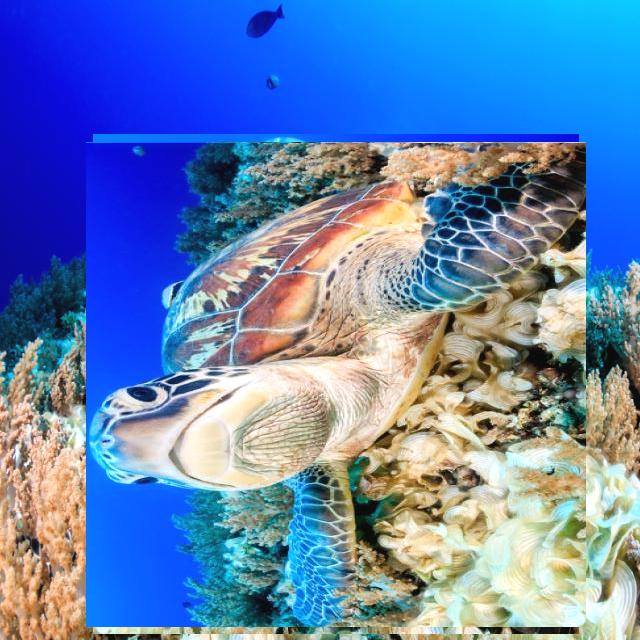Sea turtle: (90, 138, 583, 631)
